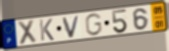5: (111, 8, 129, 34)
6: (132, 7, 150, 31)
G: (84, 13, 103, 37)
K: (38, 18, 56, 42)
V: (62, 14, 82, 39)
X: (16, 19, 38, 47)
